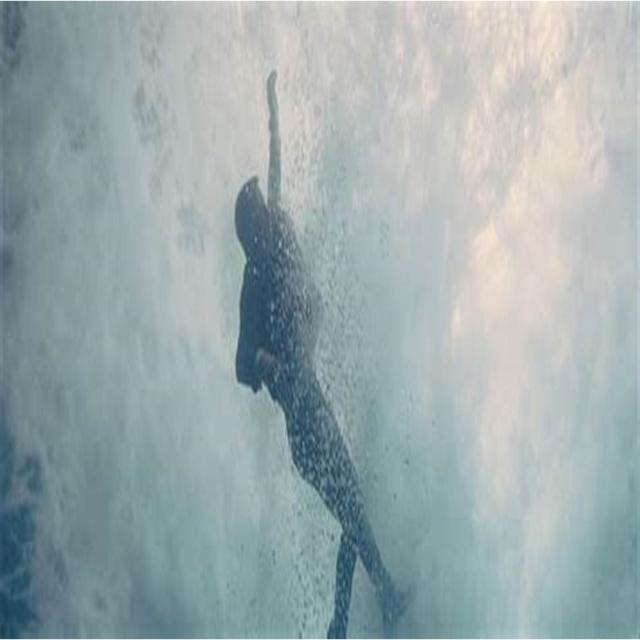drowning: (202, 48, 430, 640)
